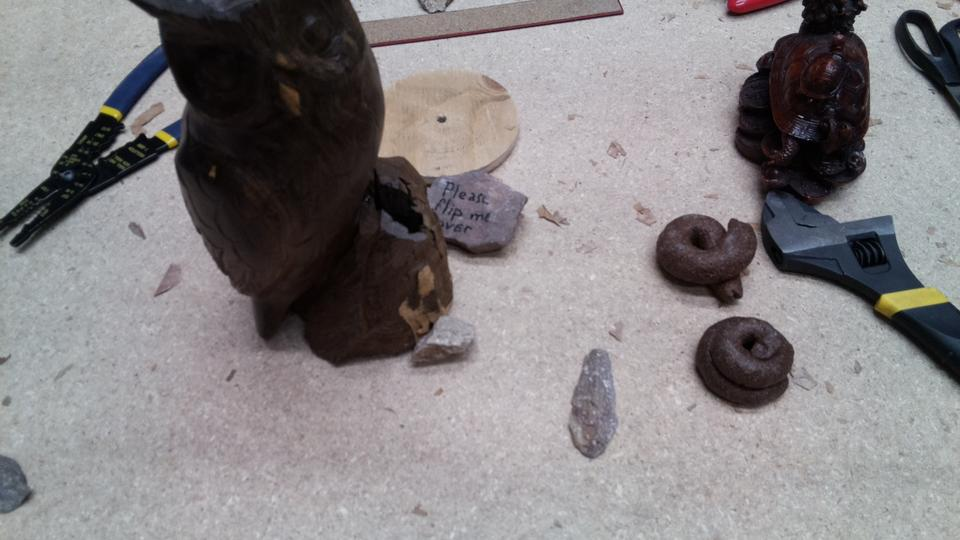poop: (690, 313, 797, 414), (653, 210, 759, 308)
